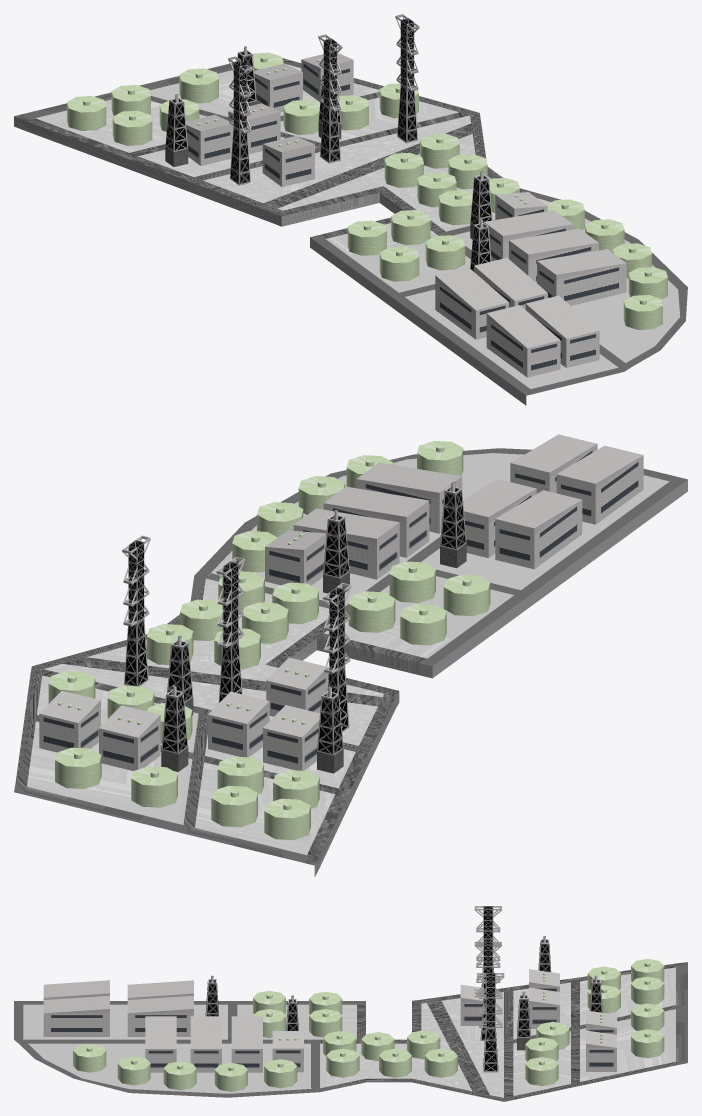
Rendered from factoryblock.fbx.
3 renders of one model, top to bottom at view 1: azimuth 30°, elevation 25°; view 2: azimuth 150°, elevation 25°; view 3: azimuth 270°, elevation 25°, orthographic. The views are drawn at different scales.
Visible parts, largest first — view 1: ground_factoryblock; view 2: ground_factoryblock; view 3: ground_factoryblock.
Boxes of the visible parts, bbox=[...] form: ground_factoryblock: bbox=[14, 14, 687, 405]; ground_factoryblock: bbox=[14, 434, 687, 876]; ground_factoryblock: bbox=[14, 906, 687, 1101].
Bounding box in the file's own units: 360 × 125 × 733.
